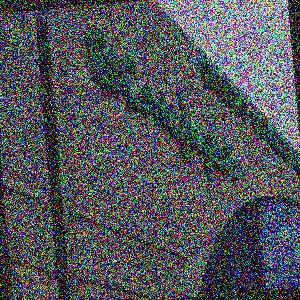corte_ingles: (215, 140, 300, 162)
